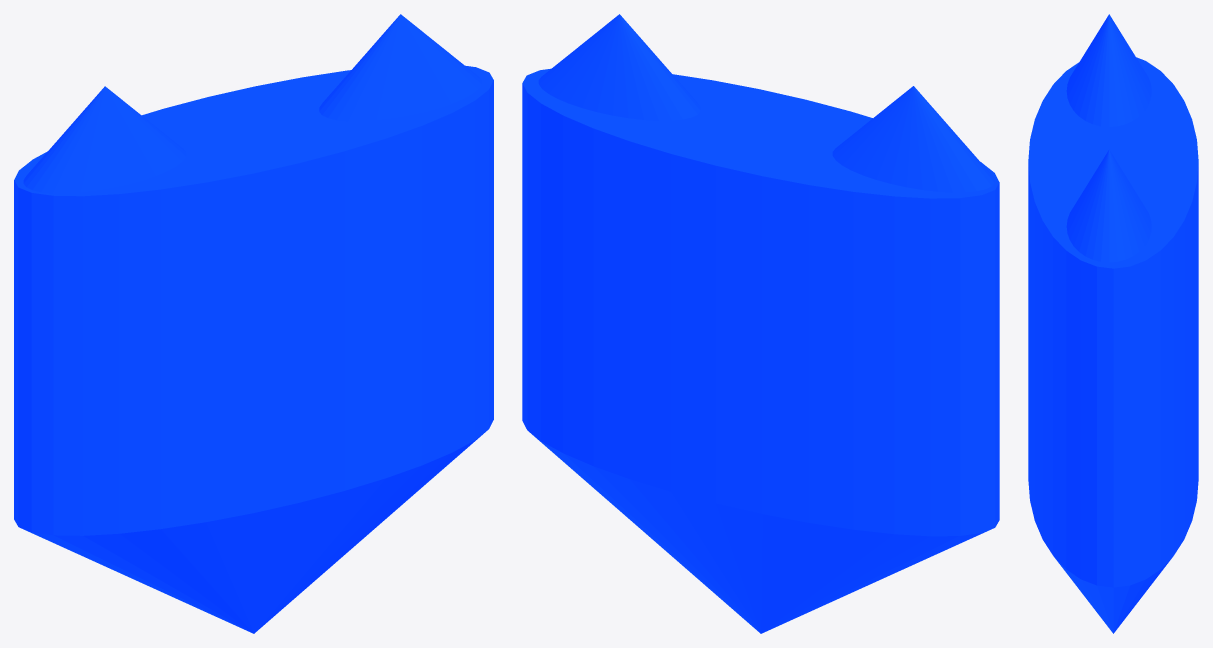
The model's file is ShieldPower.fbx.
3 renders of one model, left to right at view 1: azimuth 30°, elevation 25°; view 2: azimuth 150°, elevation 25°; view 3: azimuth 270°, elevation 25°, orthographic. The views are drawn at different scales.
Parts seen in each view (by area): view 1: Cone; view 2: Cone; view 3: Cone.
Part boxes in pixels (x1,y1,x2,y2): Cone: [14, 14, 493, 633]; Cone: [522, 14, 999, 633]; Cone: [1028, 14, 1198, 633].
Size of the model in its own units: 600 by 714 by 200.
